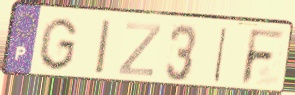3: (164, 21, 199, 83)
F: (238, 27, 287, 88)
G: (36, 16, 80, 73)
I: (94, 17, 113, 77), (211, 25, 230, 84)
Z: (116, 21, 164, 79)
